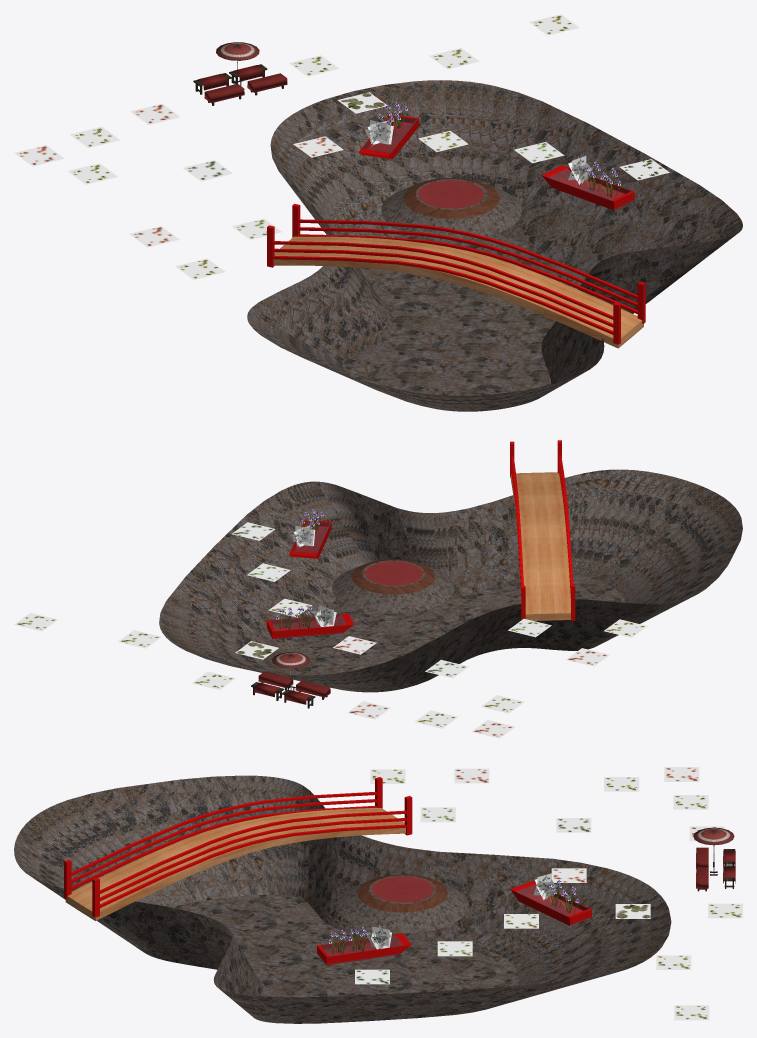
The model's file is PoolSideV1.fbx.
3 renders of one model, top to bottom at view 1: azimuth 30°, elevation 25°; view 2: azimuth 150°, elevation 25°; view 3: azimuth 270°, elevation 25°, orthographic. The views are drawn at different scales.
Visible parts, largest first — view 1: FE_Petals3; view 2: FE_Petals3; view 3: FE_Petals3.
Part boxes in pixels (x1,y1,x2,y2): FE_Petals3: (14,14,742,411); FE_Petals3: (14,440,742,738); FE_Petals3: (14,767,742,1023).
Size of the model in its own units: 34.2 by 7.68 by 41.63.
Materials: 1 (1 with a texture image).
